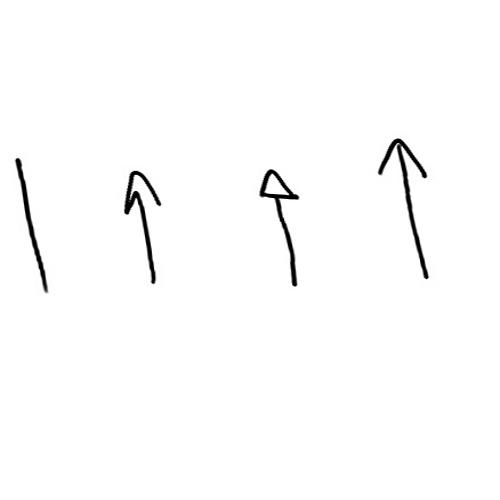arrow: (372, 137, 432, 282), (258, 169, 303, 286), (12, 159, 48, 291), (121, 169, 163, 282)
